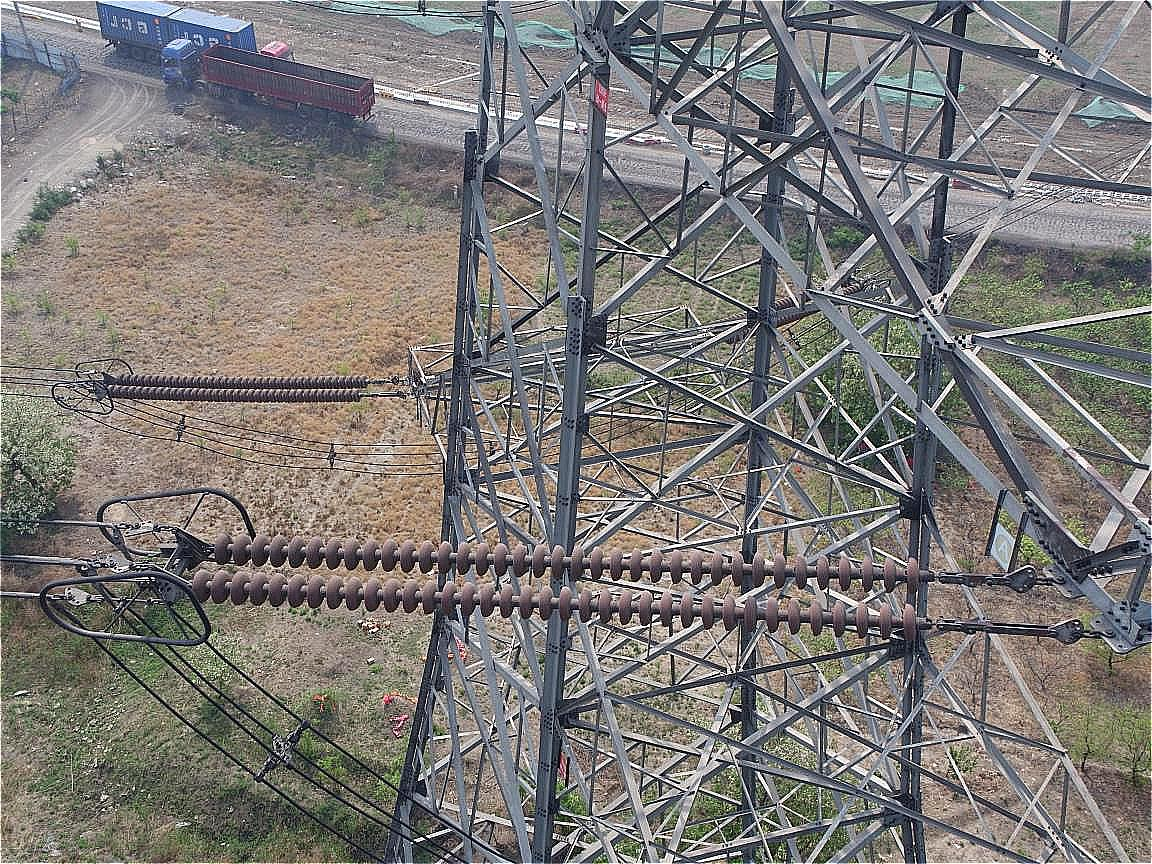insultor1: (144, 520, 962, 647), (73, 363, 396, 416)
